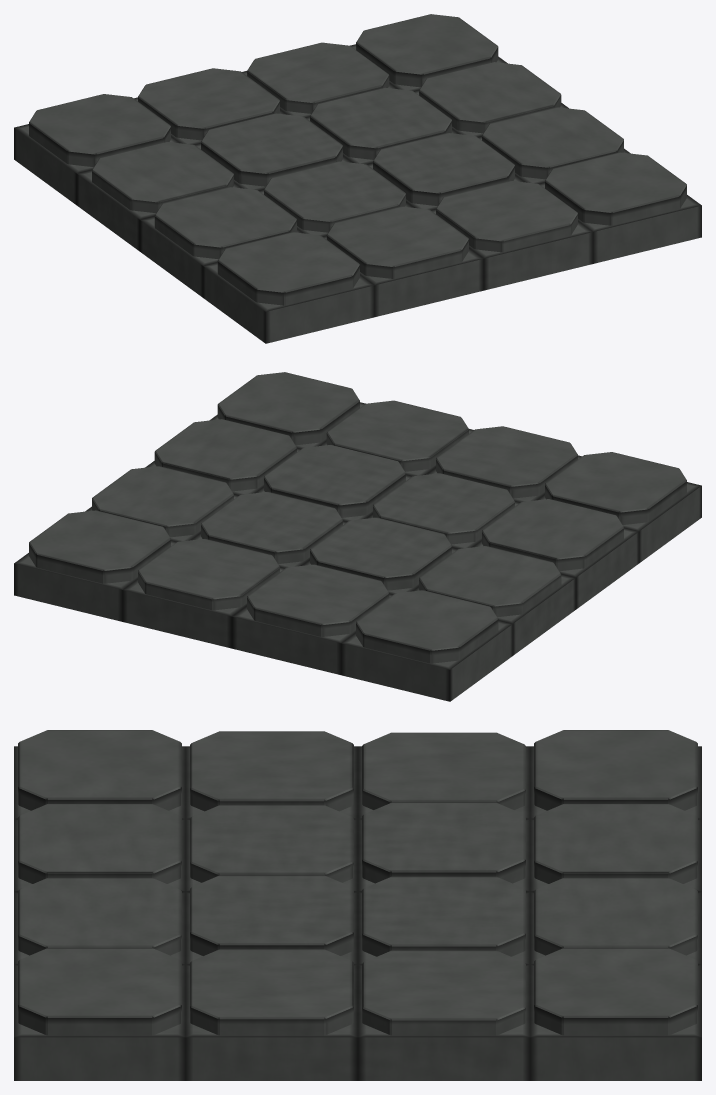
The model's file is floor_cobble_a.glb.
3 views of the same model, one above another, from view 1: azimuth 30°, elevation 25°; view 2: azimuth 150°, elevation 25°; view 3: azimuth 270°, elevation 25° (orthographic). The views are drawn at different scales.
Parts seen in each view (by area): view 1: floor_cobble_a; view 2: floor_cobble_a; view 3: floor_cobble_a.
Boxes of the visible parts, x1,y1,x2,y2 form: floor_cobble_a: (14, 14, 701, 343); floor_cobble_a: (14, 372, 701, 701); floor_cobble_a: (14, 730, 701, 1080).
Bounding box in the file's own units: 1 × 0.1 × 1.
Materials: 1 (1 with a texture image).
